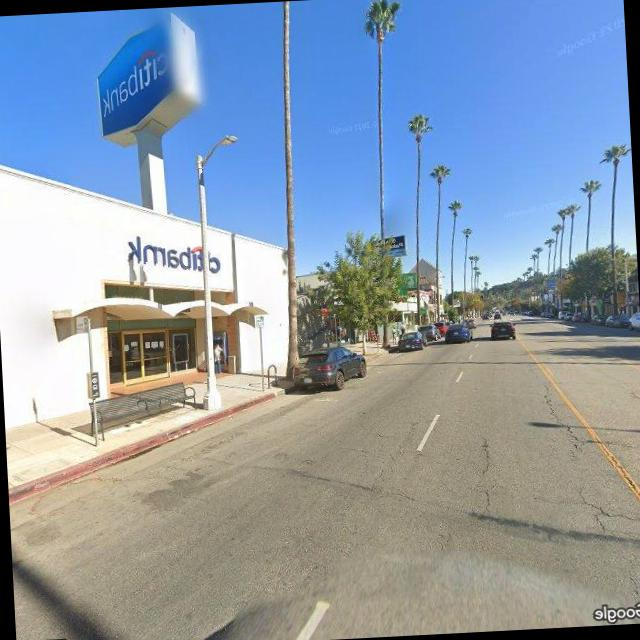crack: (538, 378, 588, 461), (576, 484, 640, 539), (474, 429, 501, 516)
